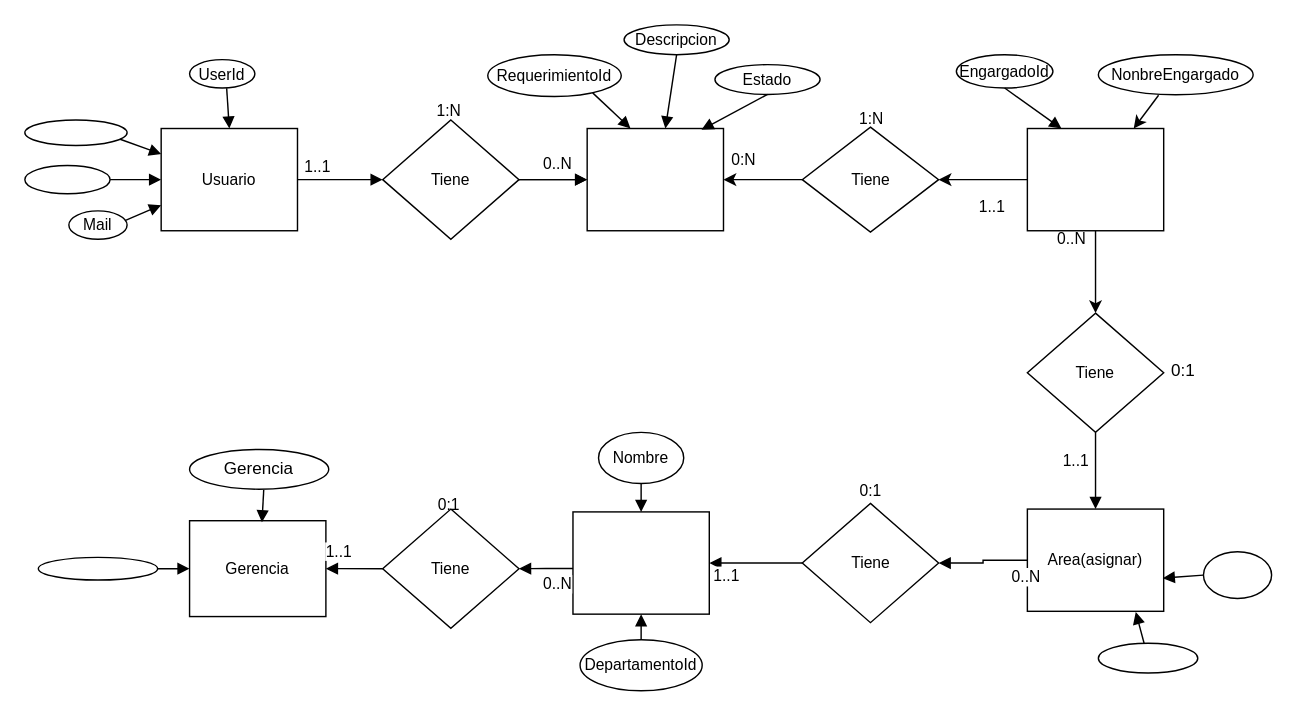
The diagram is 1296 pixels wide and 716 high, and some of its shapes have lost their labels. Here are the shapes that lost their labels. From the top down, the centre of each, then its label:
At point (75, 132): "UserName".
At point (66, 179): "Password".
At point (654, 179): "Requerimiento".
At point (1095, 179): "Engargado".
At point (97, 568): "GerenciaId".
At point (640, 562): "Departamento".
At point (1237, 574): "AreaId".
At point (1147, 657): "NameArea".
